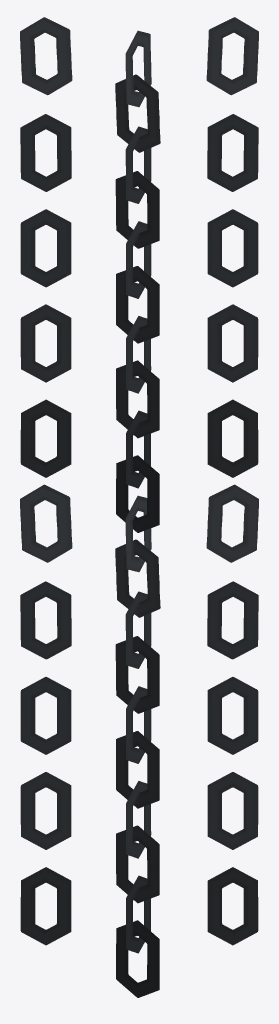
Rendered from SM_Prop_Chain_01a.fbx.
3 renders of one model, left to right at view 1: azimuth 90°, elevation 25°; view 2: azimuth 150°, elevation 25°; view 3: azimuth 270°, elevation 25°, orthographic.
Parts seen in each view (by area): view 1: SM_Prop_Chain_01a; view 2: SM_Prop_Chain_01a; view 3: SM_Prop_Chain_01a.
Part boxes in pixels (x1,y1,x2,y2): SM_Prop_Chain_01a: [20, 17, 72, 945]; SM_Prop_Chain_01a: [115, 30, 160, 997]; SM_Prop_Chain_01a: [206, 17, 258, 945].
Size of the model in its own units: 10.07 by 162 by 10.07.
